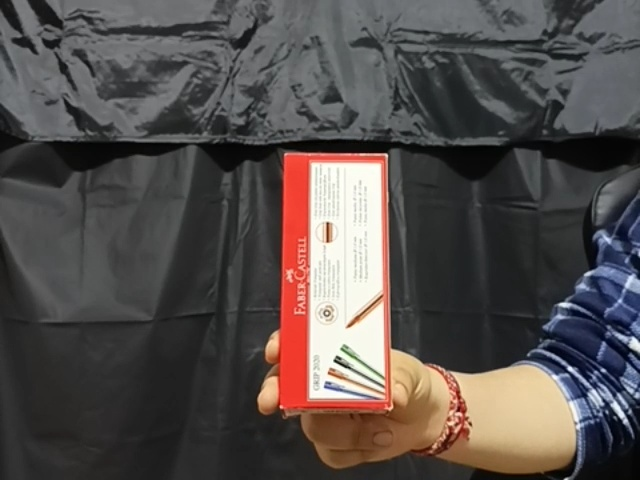xd: (280, 151, 393, 413)
